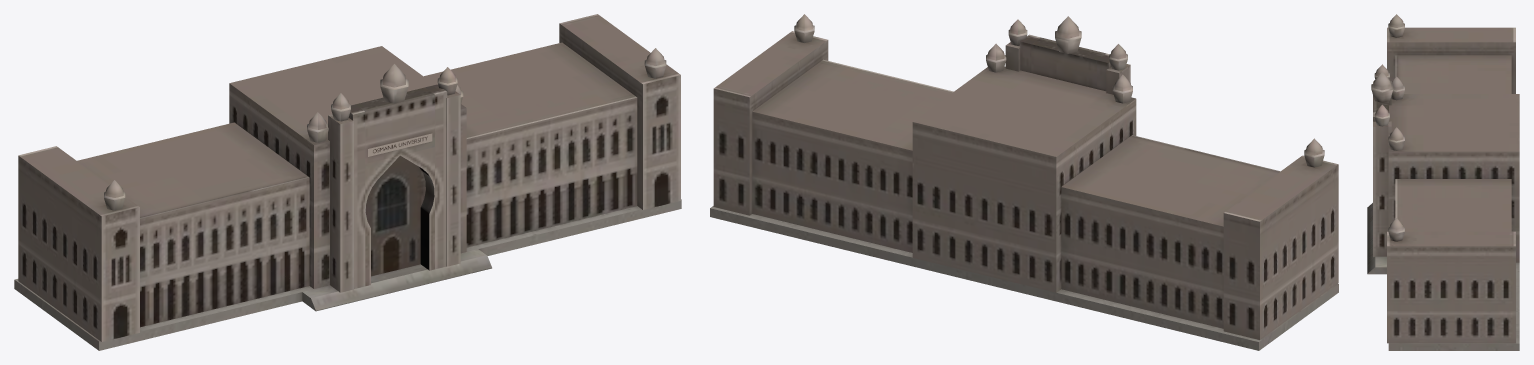
File: osmania_arts_college.glb
The picture shows the model from 3 angles, left to right: view 1: azimuth 30°, elevation 25°; view 2: azimuth 150°, elevation 25°; view 3: azimuth 270°, elevation 25°; orthographic projection. The views are drawn at different scales.
Parts seen in each view (by area): view 1: osmania_arts_college_body, ou_name; view 2: osmania_arts_college_body; view 3: osmania_arts_college_body.
Part boxes in pixels (bbox=[...]): osmania_arts_college_body: bbox=[14, 14, 681, 350]; ou_name: bbox=[368, 133, 432, 156]; osmania_arts_college_body: bbox=[710, 14, 1338, 350]; osmania_arts_college_body: bbox=[1367, 14, 1519, 350].
Bounding box in the file's own units: 199 × 71.67 × 58.3.
2 materials, 2 textured.
